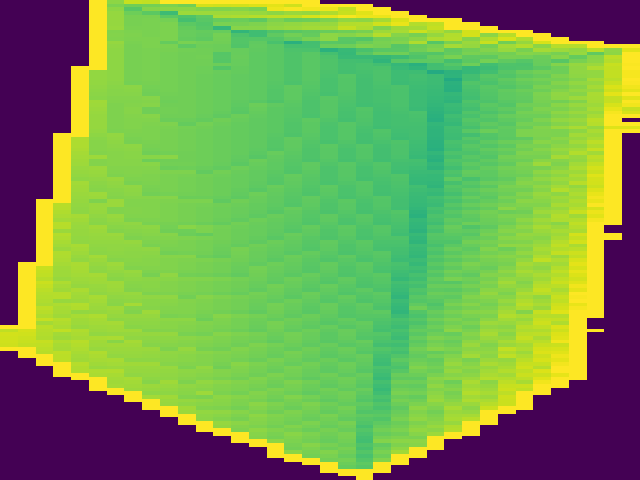cube: (2, 4, 640, 480)
